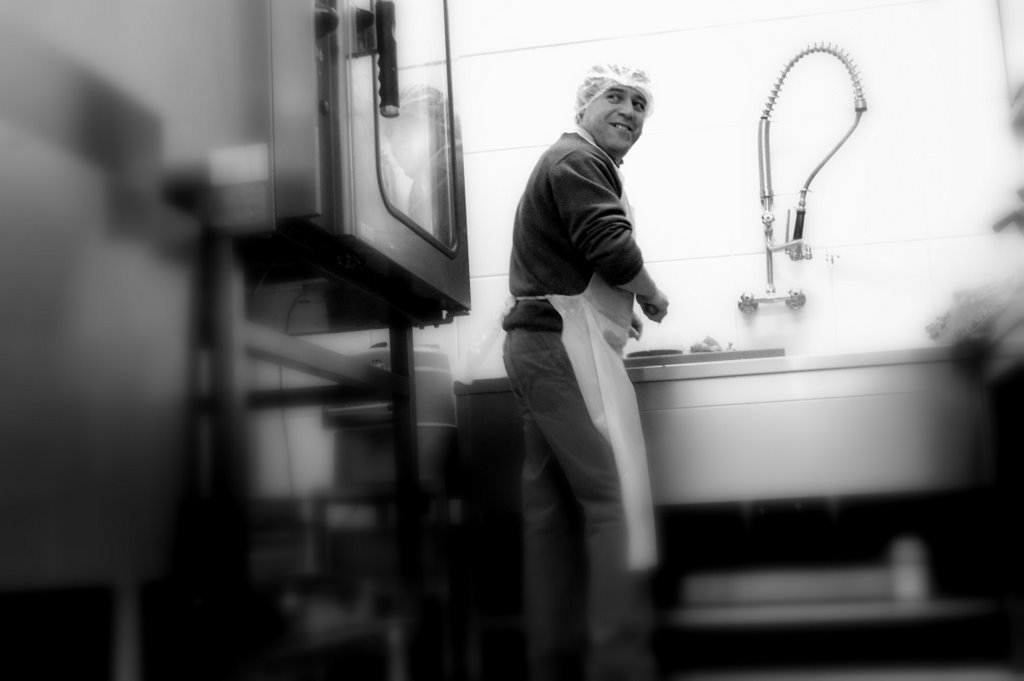tap: (739, 11, 883, 338)
